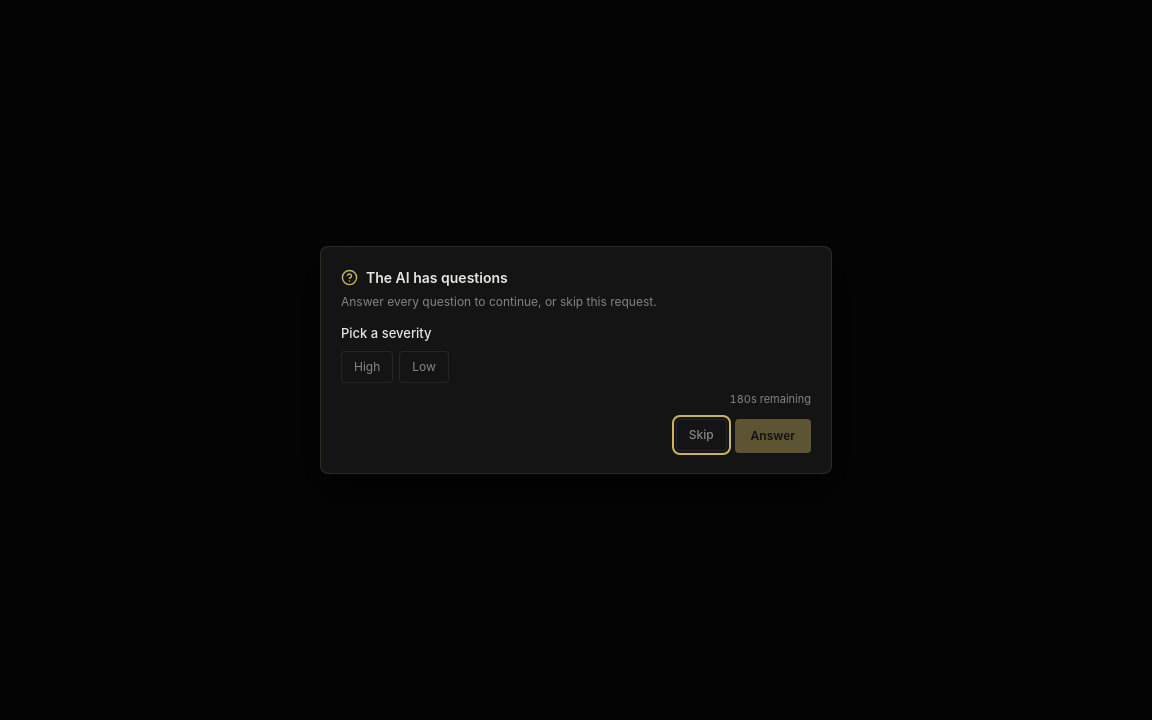
Scenario: AskUserModal › a failed submit on an option question is cleared by choosing again
What coordinates should you click on to do the following:
click the button "High"
I would click on:
 (367, 367)
Its box is x1=341 y1=351 x2=393 y2=383.
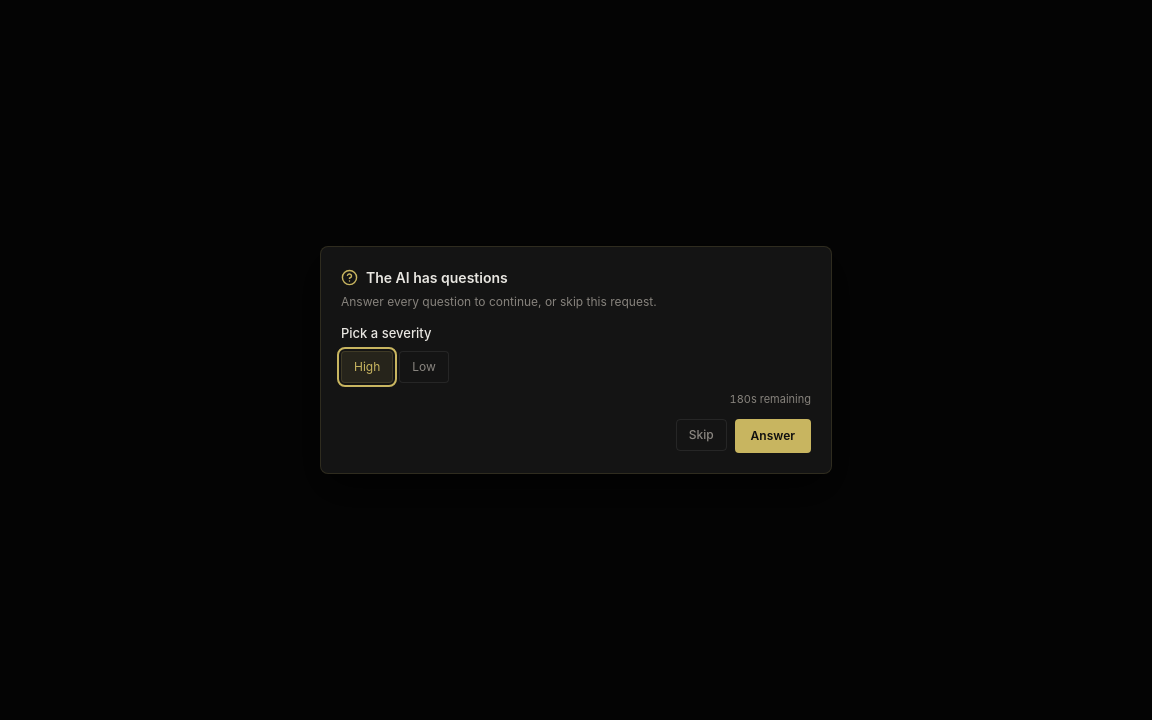
What coordinates should you click on to do the following:
click the button "Answer"
I would click on:
 (773, 436)
Its box is x1=735 y1=419 x2=811 y2=453.
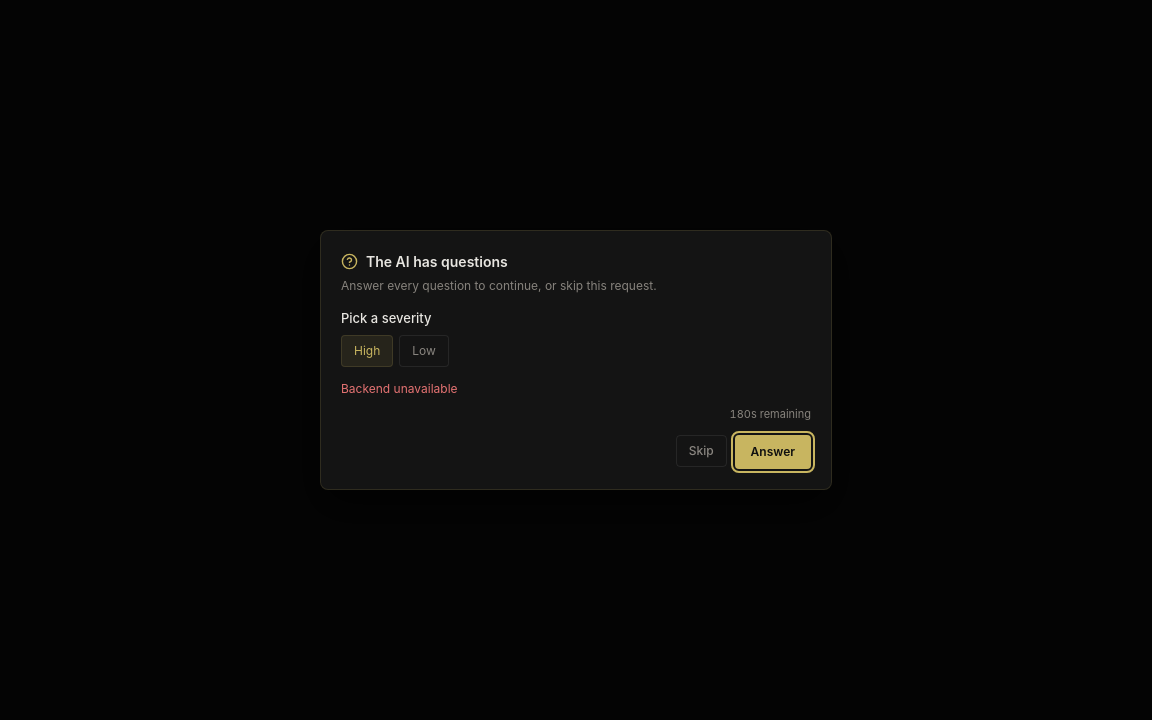
Now the message reads "Backend unavailable", box x1=341 y1=381 x2=458 y2=396
What coordinates should you click on to do the following:
click the button "Low"
I would click on:
 (424, 351)
Its box is x1=399 y1=335 x2=449 y2=367.
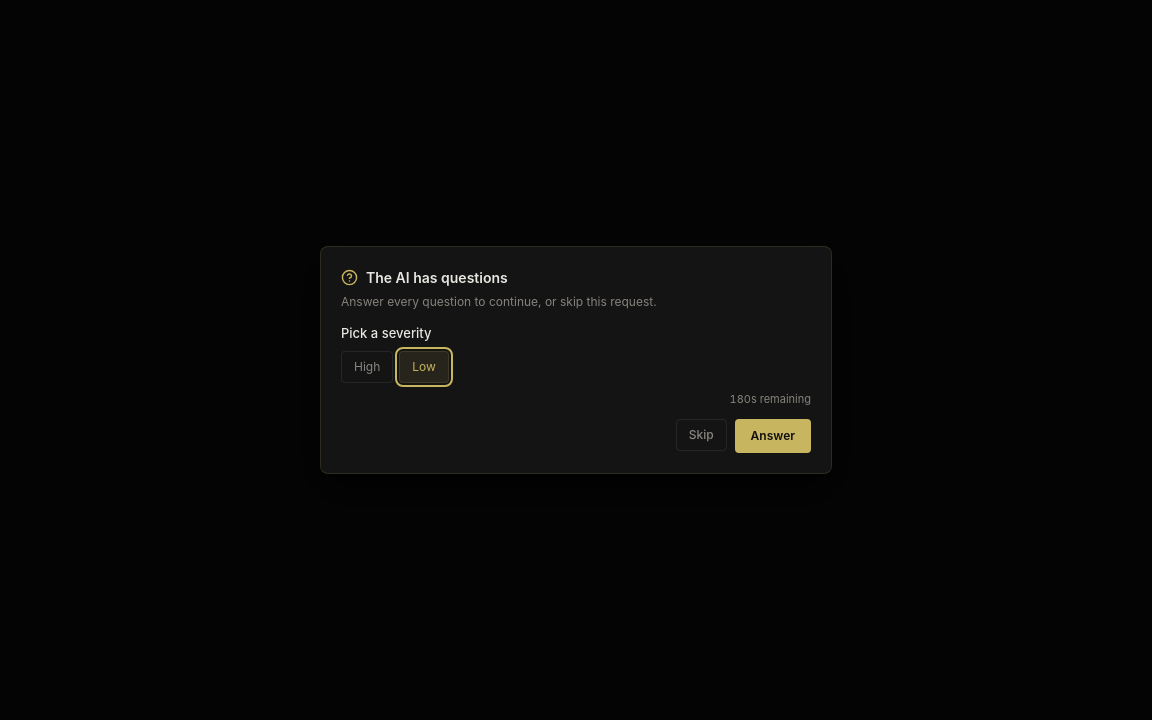
Now the message "Backend unavailable" is gone
